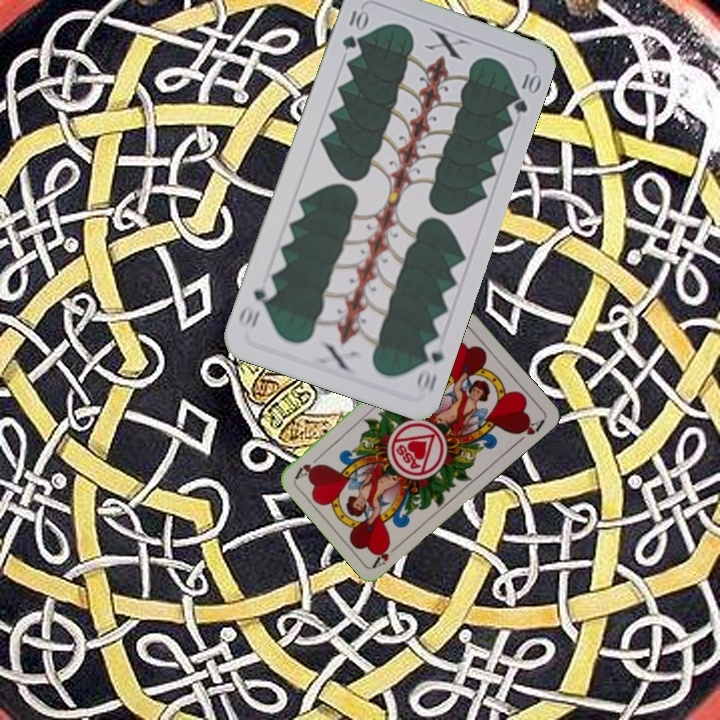G10: (412, 336, 447, 396), (338, 4, 370, 52)
HA: (369, 538, 404, 570)
